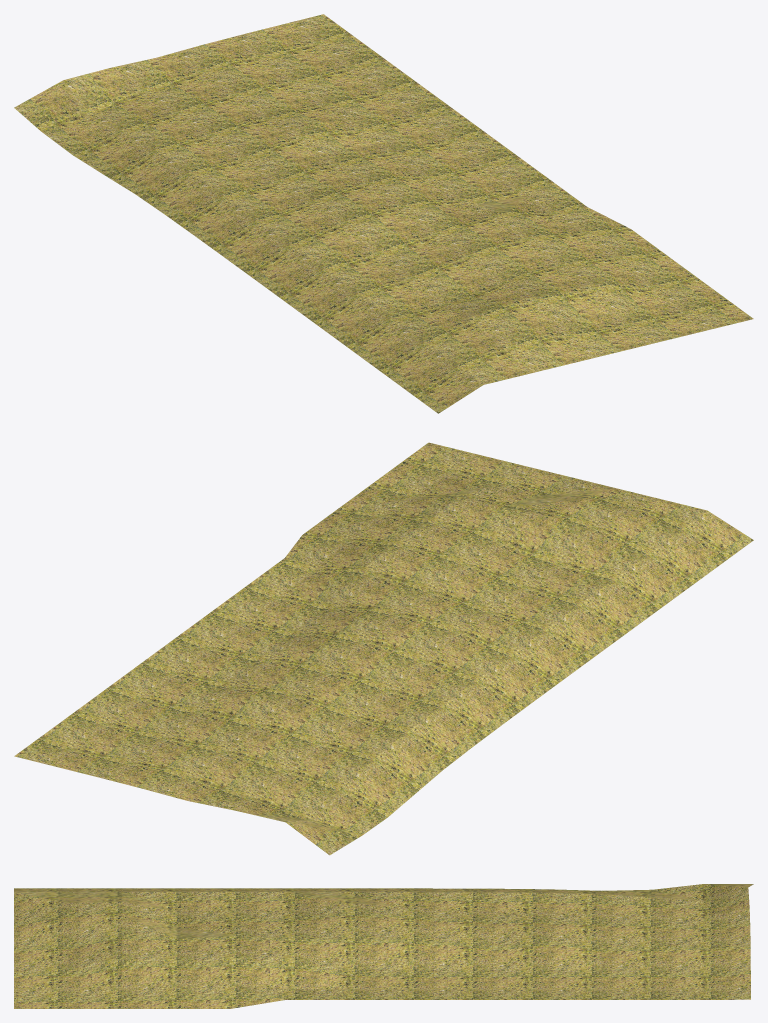
Rendered from ConstructGrass-col.GLB.
3 renders of one model, top to bottom at view 1: azimuth 30°, elevation 25°; view 2: azimuth 150°, elevation 25°; view 3: azimuth 270°, elevation 25°, orthographic. The views are drawn at different scales.
Visible parts, largest first — view 1: ConstructGrass-col; view 2: ConstructGrass-col; view 3: ConstructGrass-col.
Boxes of the visible parts, left/top/right/bottom form: ConstructGrass-col: left=14, top=14, right=753, bottom=413; ConstructGrass-col: left=14, top=442, right=753, bottom=855; ConstructGrass-col: left=14, top=884, right=753, bottom=1008.
Bounding box in the file's own units: 12.66 × 1.45 × 28.23.
Materials: 1 (1 with a texture image).
